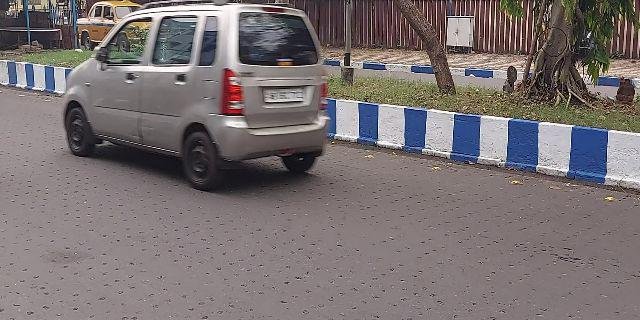Car: (57, 4, 339, 183)
